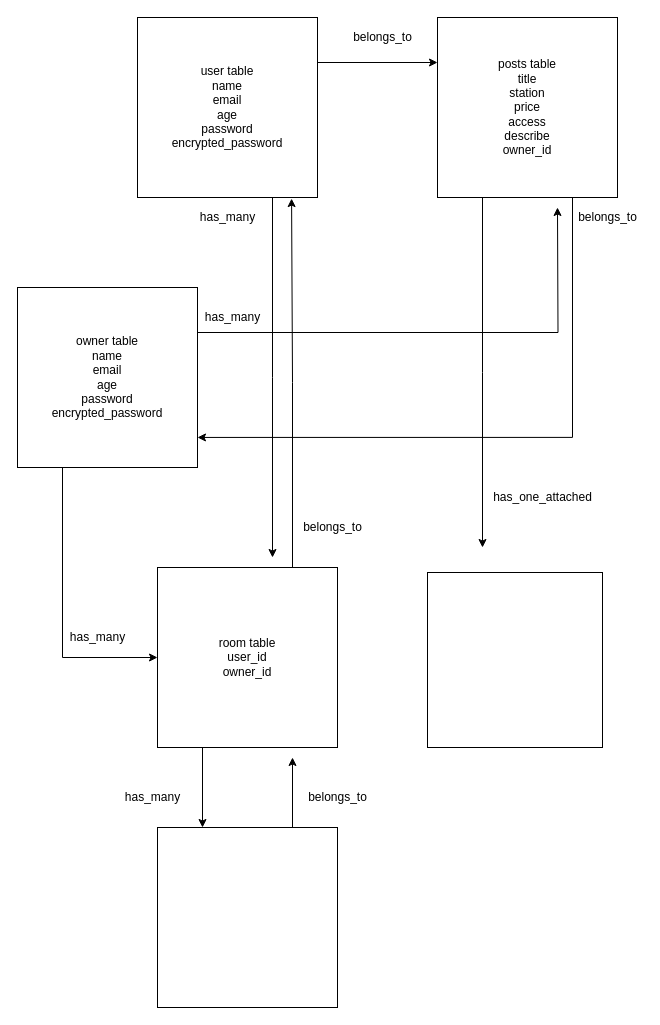
Some shapes in this 660 by 1025 pixel diagram are drawn without their labels. The box of each missing label's shape, as (x1, y1, x2, y2) in pixels:
image table: (426, 572, 602, 748)
message table room_id is_user content: (156, 826, 338, 1008)
